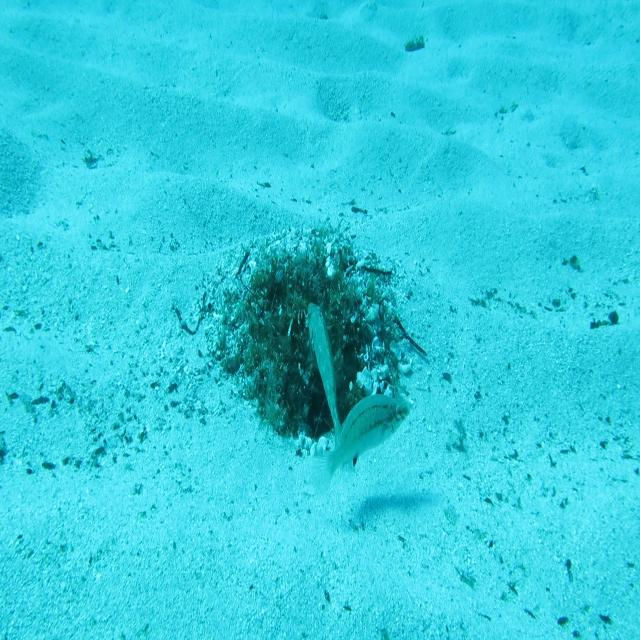INSF: (307, 300, 344, 449)
core_nest: (286, 257, 338, 303)
female: (308, 392, 412, 501)
nest: (194, 216, 418, 466)
vegetation: (402, 30, 429, 57)
